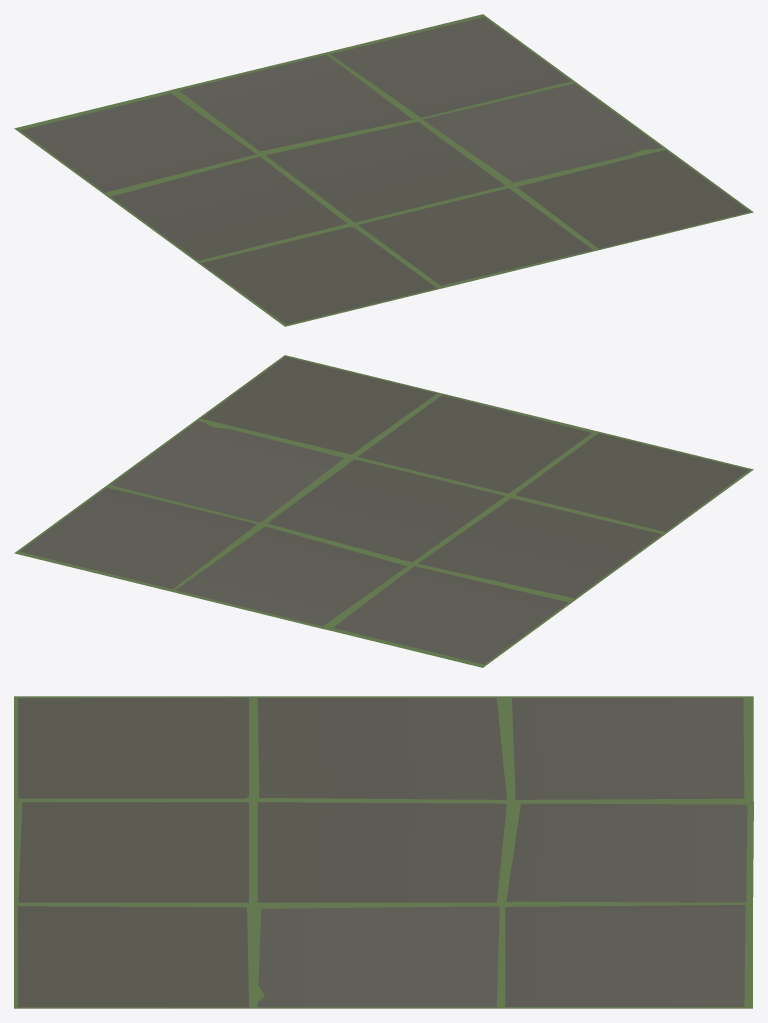
File: Tile_01.fbx
3 views of the same model, one above another, from view 1: azimuth 30°, elevation 25°; view 2: azimuth 150°, elevation 25°; view 3: azimuth 270°, elevation 25° (orthographic). The views are drawn at different scales.
Visible parts, largest first — view 1: Tile_01; view 2: Tile_01; view 3: Tile_01.
Part boxes in pixels (<box>): Tile_01: <box>14,14,753,326</box>; Tile_01: <box>14,355,753,667</box>; Tile_01: <box>14,696,753,1008</box>.
Size of the model in its own units: 3 by 9.54e-07 by 3.01.
